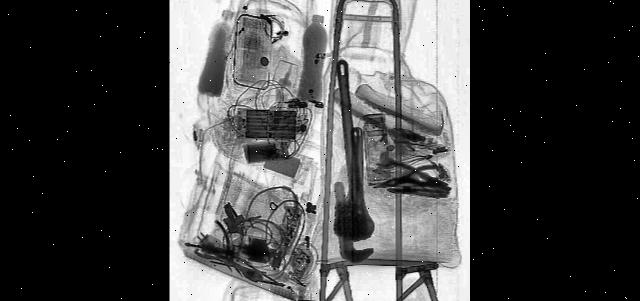Pliers: (374, 160, 440, 197)
Wrench: (326, 49, 375, 250)
